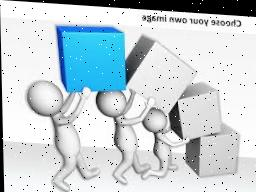cube: (57, 23, 126, 93), (169, 76, 220, 137), (184, 121, 240, 176)
